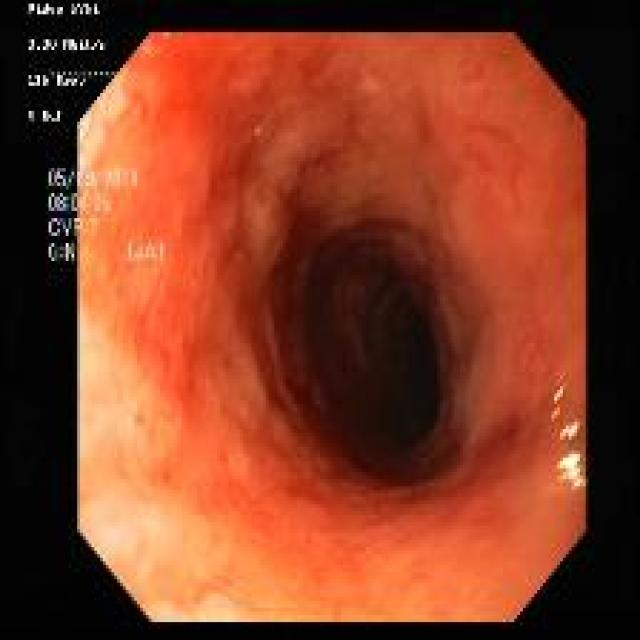ulcerative-colitis: (79, 31, 586, 621)
